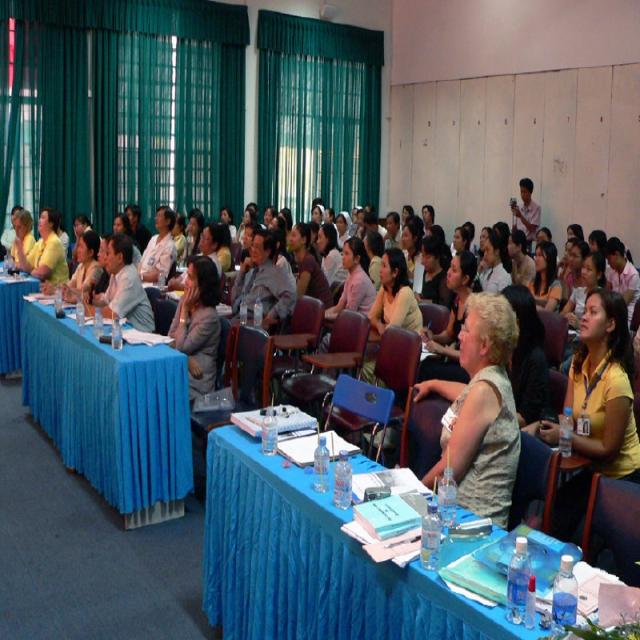body: (410, 290, 522, 531), (537, 286, 640, 483), (414, 248, 484, 397), (166, 254, 224, 409), (308, 235, 379, 358), (498, 281, 553, 430), (77, 232, 156, 334), (230, 228, 299, 332), (558, 250, 606, 376), (367, 245, 425, 338), (162, 222, 225, 302), (39, 229, 105, 305), (12, 207, 70, 288), (287, 220, 335, 312), (136, 205, 179, 307), (32, 208, 70, 304), (59, 229, 105, 305), (604, 236, 640, 333), (411, 234, 454, 312), (525, 238, 564, 315), (472, 232, 514, 296), (314, 222, 350, 290), (510, 176, 542, 239), (111, 211, 144, 271), (507, 228, 538, 288), (230, 208, 260, 267), (10, 209, 38, 272), (178, 207, 206, 269), (360, 230, 387, 294), (52, 438, 90, 483), (123, 203, 154, 258), (532, 226, 563, 277), (72, 213, 102, 264), (568, 240, 593, 292), (556, 237, 578, 295), (0, 204, 25, 255), (232, 201, 260, 244), (350, 197, 378, 237), (239, 220, 263, 266), (487, 216, 519, 250), (170, 211, 189, 267), (214, 220, 233, 273), (449, 221, 475, 258), (471, 225, 495, 265), (266, 222, 290, 262), (278, 207, 297, 257), (383, 210, 405, 252), (404, 213, 426, 253), (334, 210, 354, 250), (218, 206, 238, 242), (425, 222, 450, 245), (421, 203, 436, 240), (398, 202, 414, 236), (453, 225, 471, 254), (258, 203, 277, 229), (588, 229, 607, 255), (310, 192, 334, 212), (306, 220, 323, 248), (310, 203, 328, 228), (566, 222, 586, 242), (319, 207, 338, 226), (266, 216, 288, 230)
